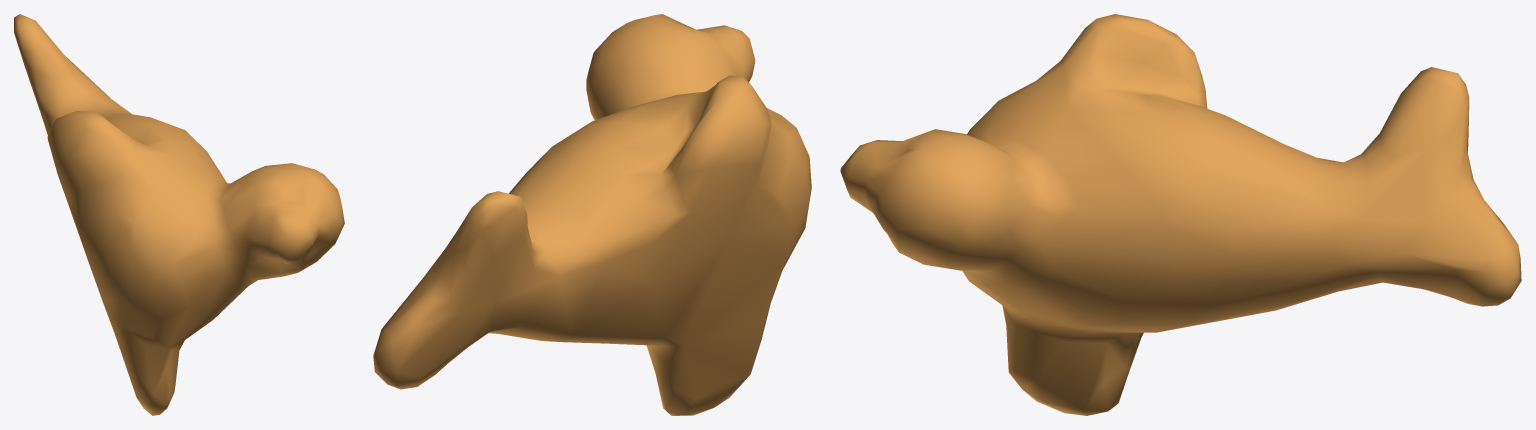
File: seal1_6.dae
3 views of the same model, side by side, from view 1: azimuth 30°, elevation 25°; view 2: azimuth 150°, elevation 25°; view 3: azimuth 270°, elevation 25° (orthographic). The views are drawn at different scales.
Parts seen in each view (by area): view 1: Seal_800_tex_019; view 2: Seal_800_tex_019; view 3: Seal_800_tex_019.
Part boxes in pixels (bbox=[...]): Seal_800_tex_019: bbox=[14, 14, 344, 415]; Seal_800_tex_019: bbox=[373, 14, 811, 415]; Seal_800_tex_019: bbox=[840, 14, 1521, 415].
Size of the model in its own units: 0.169 by 0.3845 by 0.2295.
